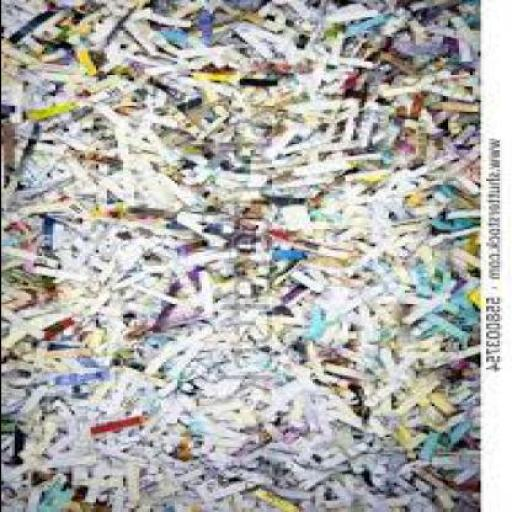paper: (1, 0, 479, 511)
